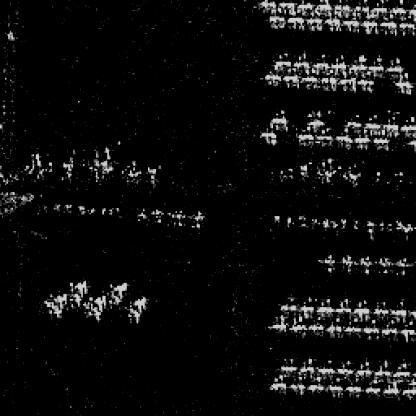airplane: (315, 252, 338, 276), (385, 57, 406, 78), (304, 110, 326, 130), (370, 132, 392, 151), (380, 112, 403, 130), (271, 53, 291, 72), (188, 208, 206, 229), (387, 0, 408, 18), (367, 55, 385, 75), (350, 54, 368, 74), (350, 0, 370, 18), (369, 0, 387, 20), (166, 208, 185, 226), (292, 53, 310, 72), (343, 114, 364, 130), (338, 255, 356, 273), (372, 301, 392, 317), (396, 255, 413, 273), (304, 376, 323, 392), (278, 296, 297, 312), (380, 380, 400, 395), (331, 297, 351, 312), (268, 112, 288, 127), (268, 374, 286, 390), (278, 358, 296, 374), (364, 317, 380, 335), (390, 300, 406, 318), (312, 55, 328, 73), (378, 21, 396, 37), (148, 206, 167, 221), (362, 379, 382, 393), (258, 128, 278, 142), (393, 80, 413, 94), (284, 15, 304, 29), (291, 315, 307, 332), (382, 318, 398, 335), (325, 377, 343, 392), (359, 255, 374, 273), (323, 18, 343, 31), (298, 358, 314, 374), (317, 358, 333, 374), (335, 359, 351, 375), (354, 359, 370, 375), (317, 299, 333, 315), (377, 257, 393, 273), (330, 57, 346, 73), (333, 0, 349, 16), (393, 362, 410, 377), (351, 301, 369, 315), (366, 110, 380, 128), (306, 18, 324, 32), (288, 377, 304, 392), (309, 315, 325, 330), (299, 299, 315, 314), (134, 206, 150, 221), (344, 378, 361, 392), (344, 319, 361, 333), (336, 78, 354, 91), (360, 21, 378, 34), (356, 76, 375, 88), (273, 315, 288, 330), (374, 361, 390, 375), (327, 318, 343, 332), (398, 22, 414, 36), (315, 0, 332, 13), (262, 72, 280, 84), (294, 132, 315, 142), (268, 15, 283, 29), (353, 135, 369, 148), (283, 73, 299, 86), (343, 20, 359, 32), (402, 380, 414, 395), (278, 0, 296, 10), (296, 0, 314, 10), (301, 75, 317, 86), (315, 132, 332, 142), (319, 76, 333, 88), (333, 133, 349, 143), (296, 214, 307, 226), (309, 216, 320, 228), (385, 221, 395, 232), (366, 219, 374, 232), (271, 213, 281, 223), (393, 219, 403, 229), (322, 216, 330, 228), (330, 216, 338, 228), (258, 0, 274, 6), (403, 223, 413, 232), (377, 221, 385, 232), (284, 216, 292, 226), (338, 218, 346, 228), (351, 219, 357, 229), (413, 80, 414, 94)
